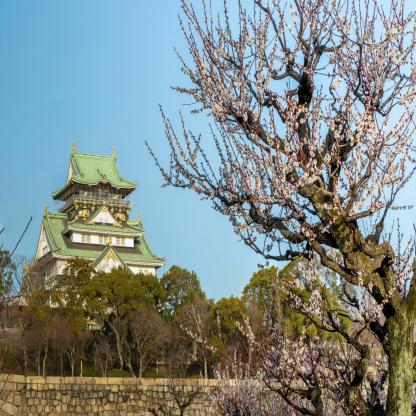Ume: (140, 0, 415, 416)
